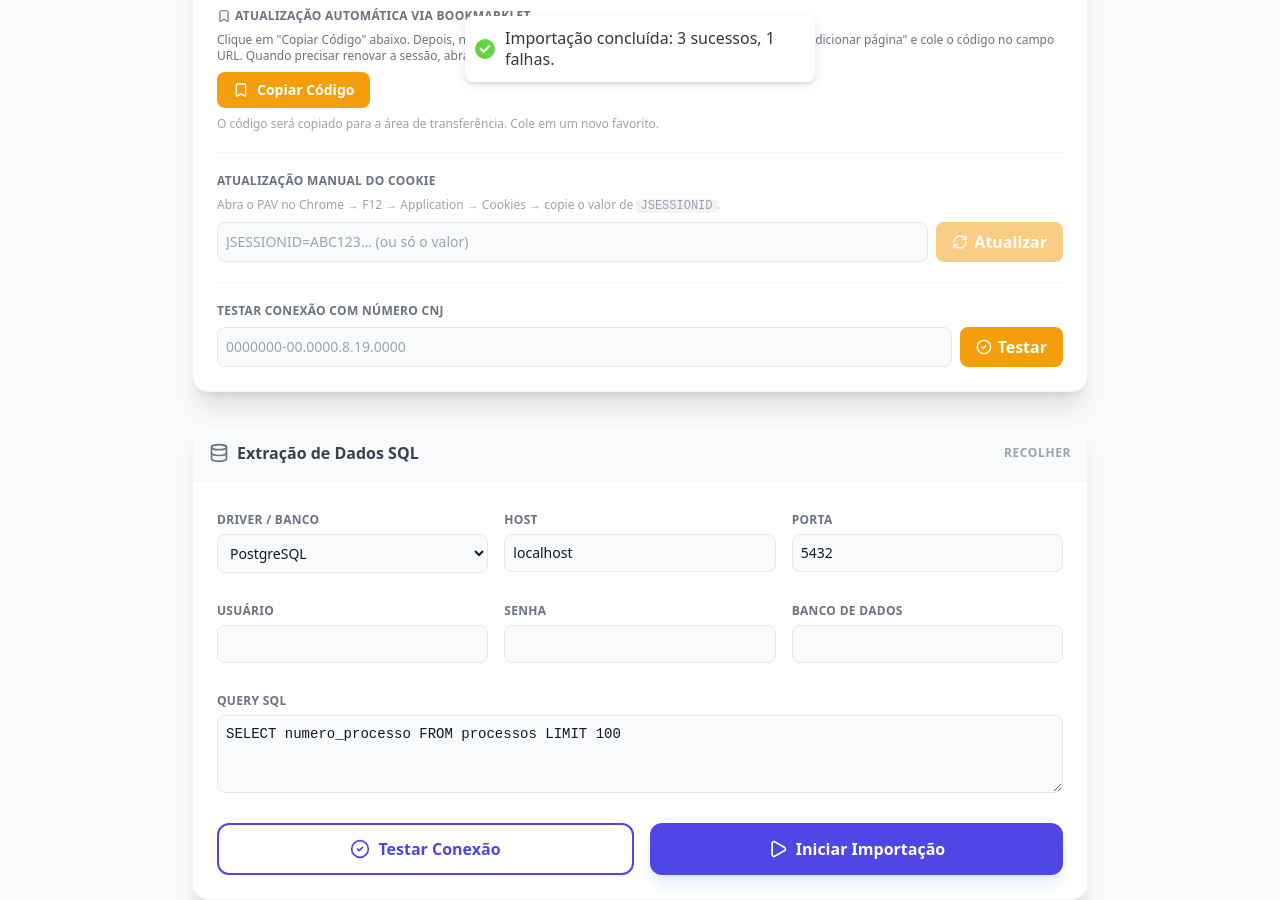
Test: Settings Component › Import Functionality › TC-22: shows error toast on import failure
(page scrolled)
Click the button "Iniciar Importação" at (856, 849), box [650,823,1063,875]
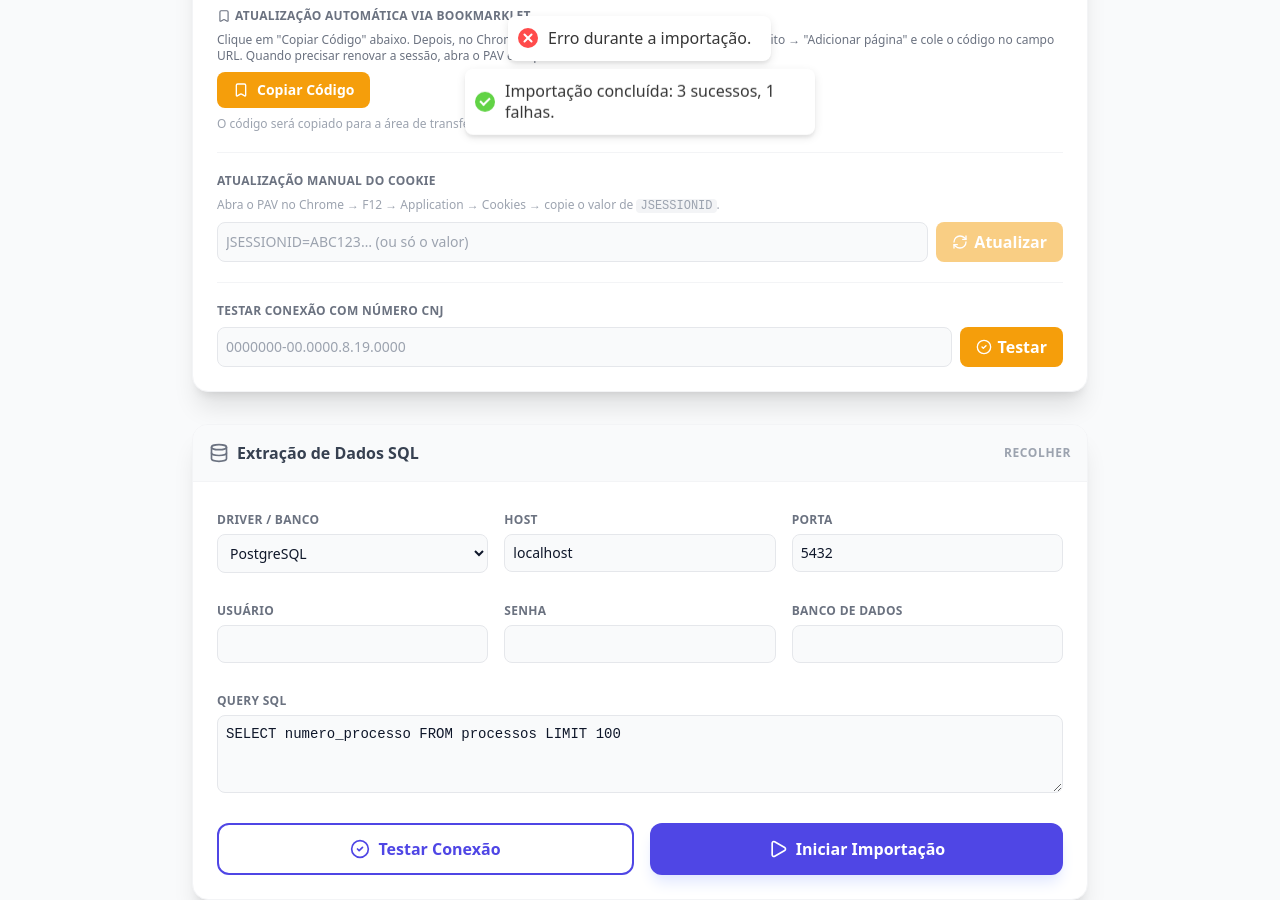
Expected: the text "Erro durante a importação." is shown, [548,28,752,49]
